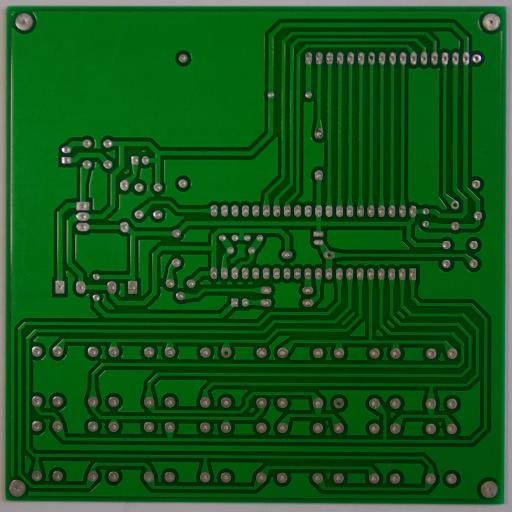missing_hole: (220, 346, 233, 360), (449, 199, 461, 211), (366, 52, 377, 65), (333, 397, 344, 410), (323, 250, 335, 260)
